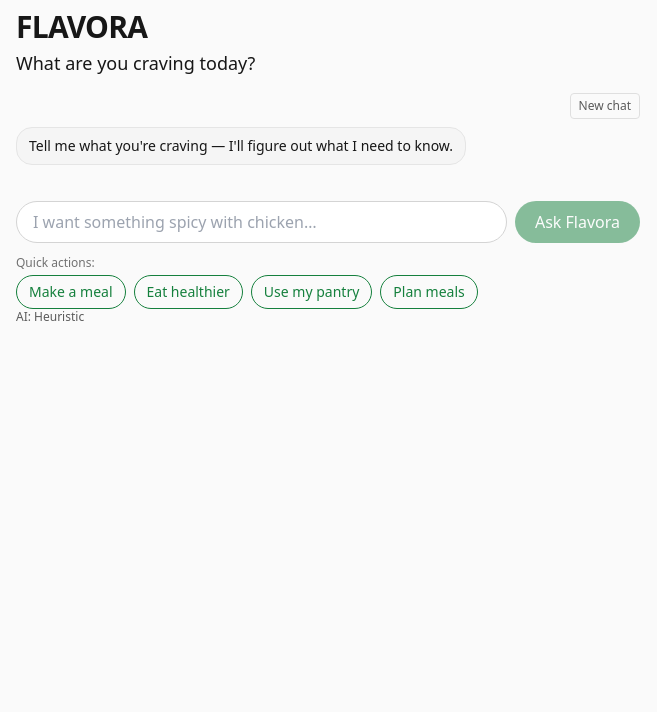
Test case: Home conversational flow › logs a recommendation as eaten (never auto-logged)
Type "I want something with chicken" into the field named "Tell Flavora what you want" at (261, 222), box x1=16 y1=201 x2=507 y2=243
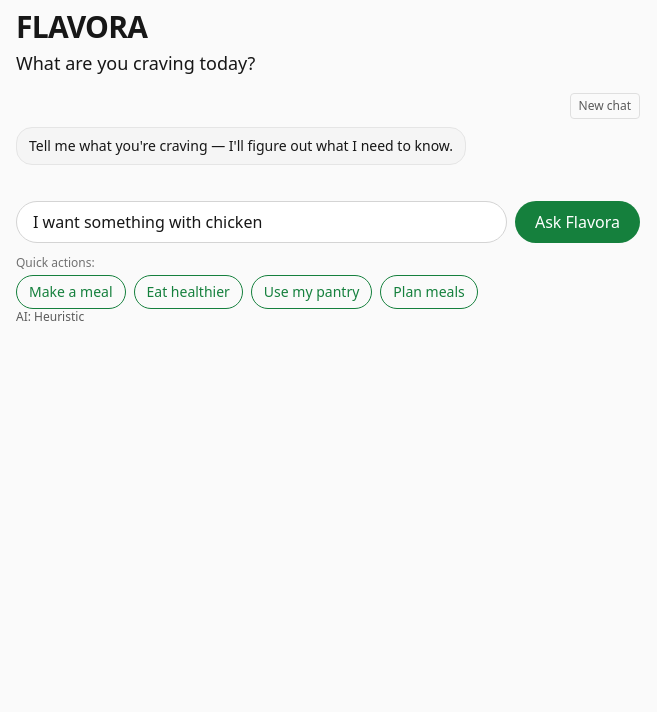
Click the button "Ask Flavora" at (577, 222), box x1=515 y1=201 x2=640 y2=243
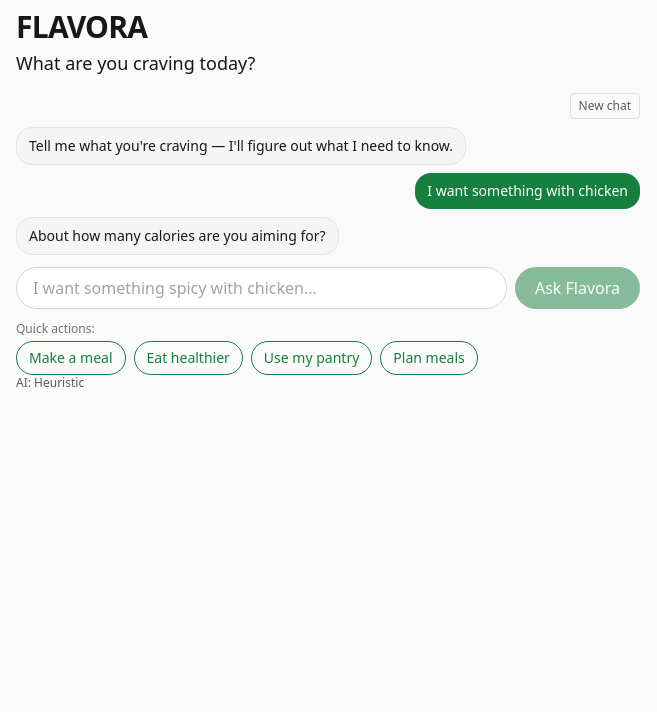
Now the text "About how many calories are you aiming for?" is shown, box x1=16 y1=217 x2=338 y2=255
Type "Around 600 calories for dinner" into the field named "Tell Flavora what you want" at (261, 288), box x1=16 y1=267 x2=507 y2=309
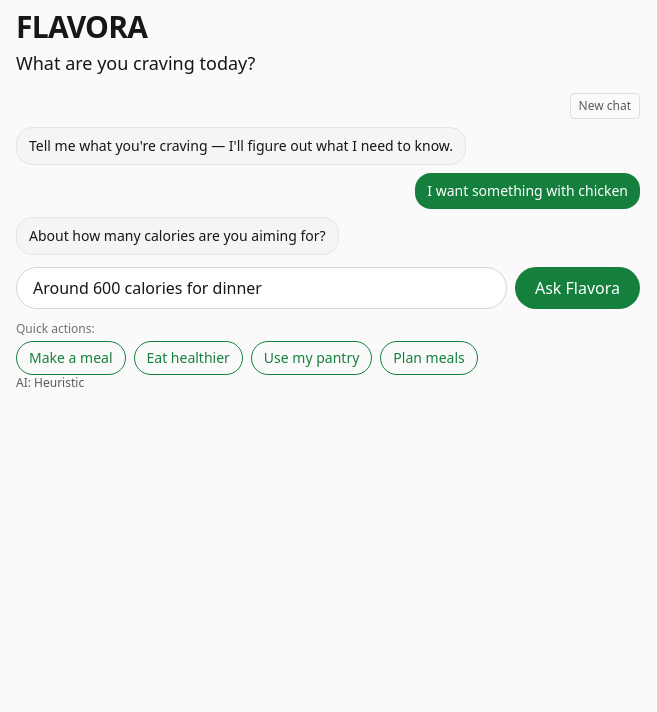
Click the button "Ask Flavora" at (577, 288), box x1=515 y1=267 x2=640 y2=309
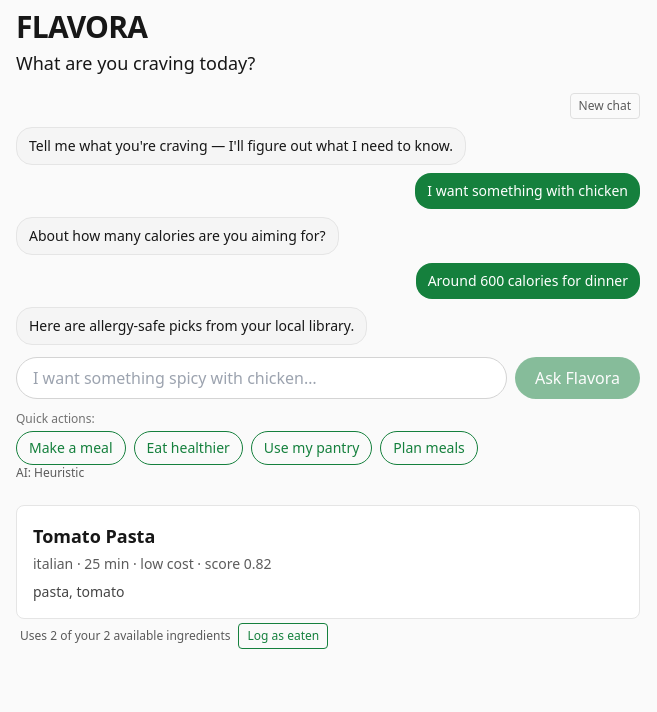
Now the heading "Tomato Pasta" is shown, box x1=33 y1=524 x2=155 y2=548
Click the button named "Log Tomato Pasta as eaten" at (283, 636), box x1=238 y1=623 x2=328 y2=649
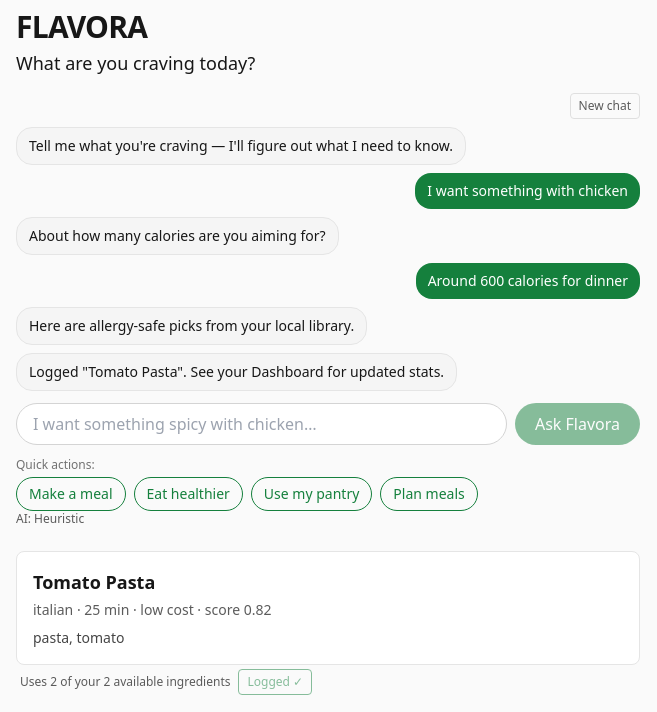
Now the text "Logged \"Tomato Pasta\". See your Dashboard for updated stats." is shown, box x1=16 y1=353 x2=457 y2=391
